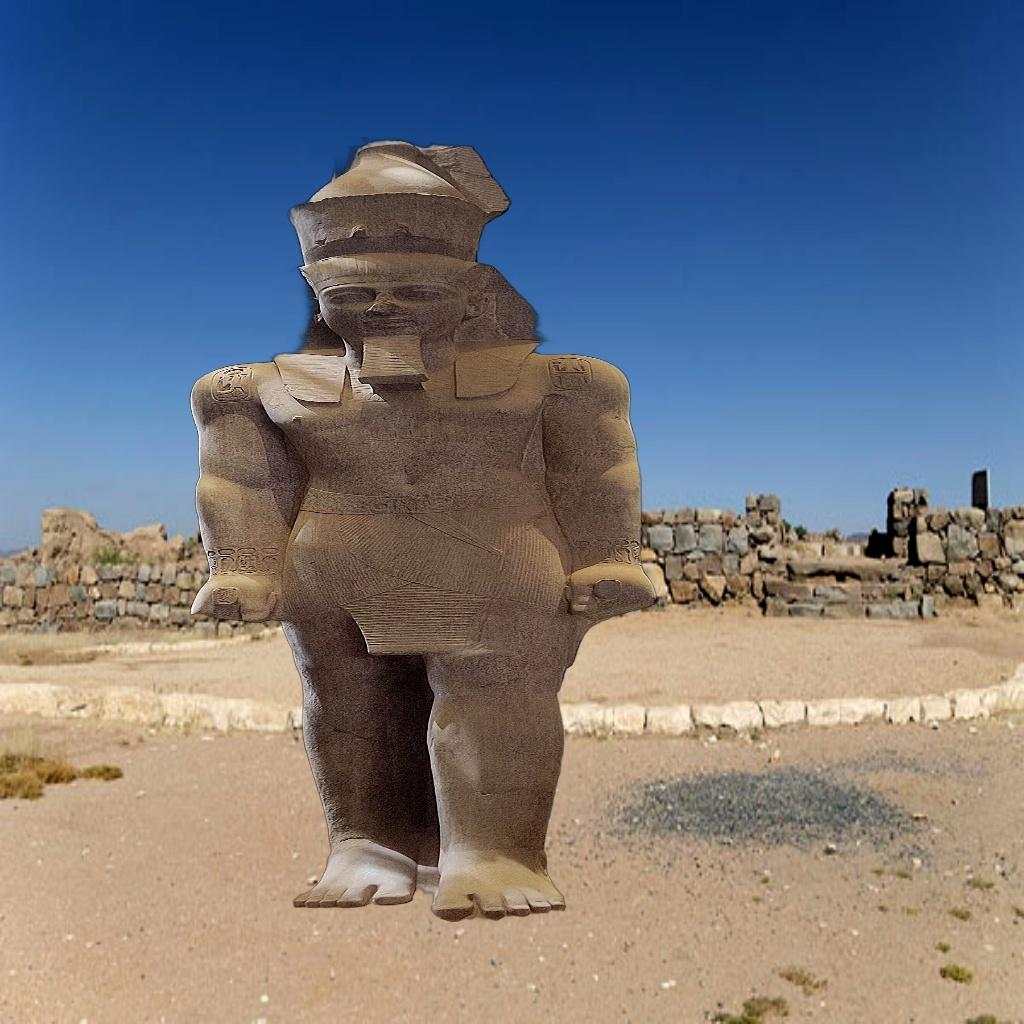Colossal Statue of Ramesses II beloved of Ptah: (179, 138, 667, 926)
